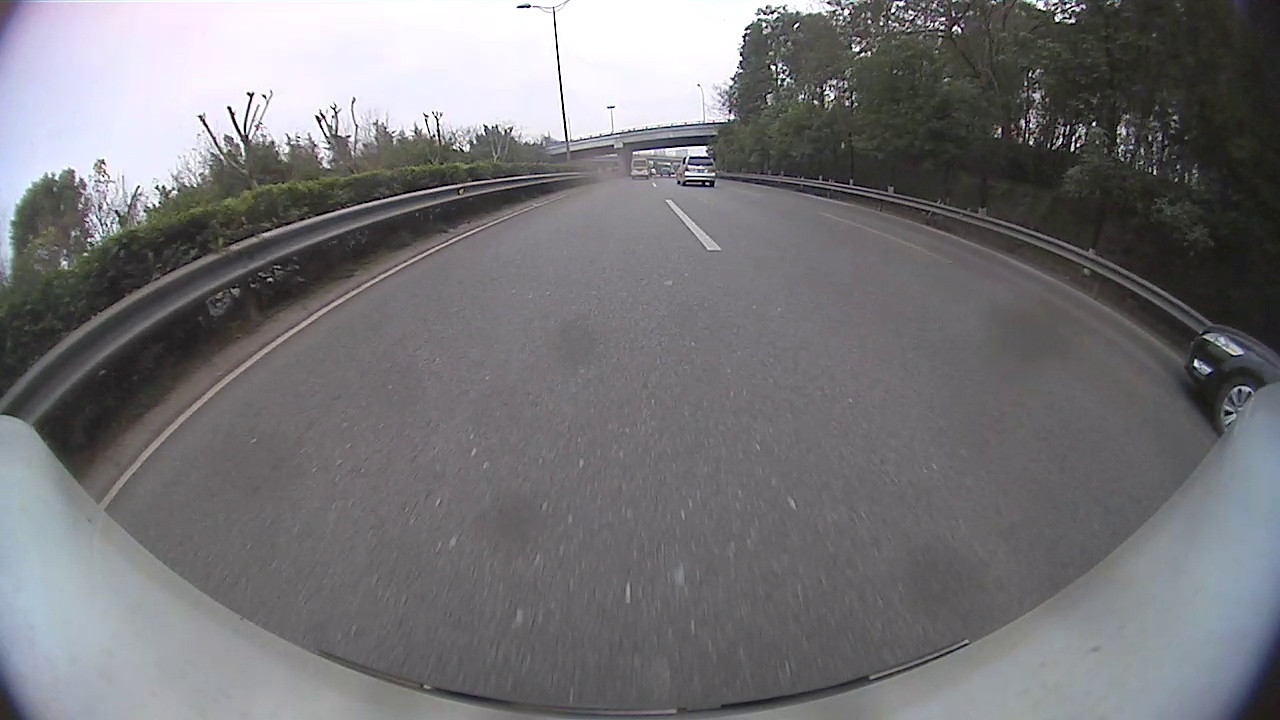car: (1181, 321, 1279, 435), (675, 153, 717, 186), (629, 157, 650, 179)
front: (1211, 377, 1265, 444)
